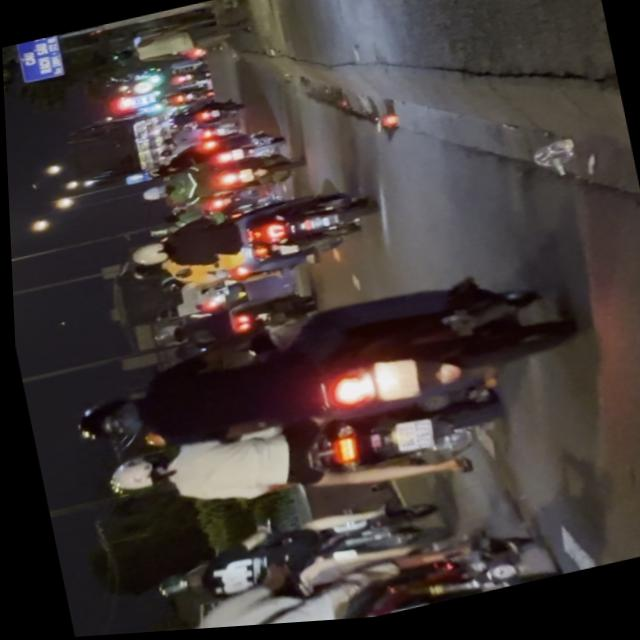helmet: (66, 394, 144, 450), (102, 453, 169, 500), (127, 240, 174, 270)
licenseplate: (52, 257, 581, 482), (95, 376, 514, 553), (102, 515, 556, 636), (121, 176, 375, 288)
nohelmet: (368, 361, 417, 410), (388, 422, 431, 461)
